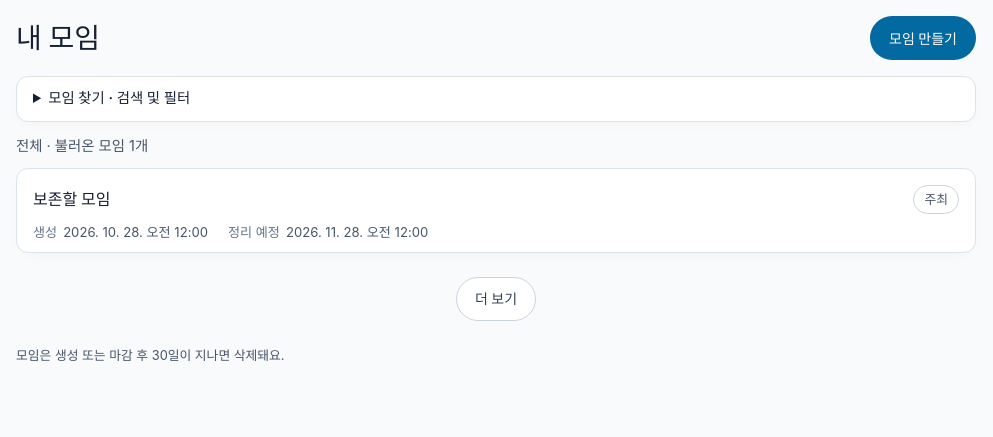
account-based room history › preserves loaded rows on a failed next page and retries that cursor only after an explicit action
The image size is (993, 437).
Expected: the link "보존할 모임 주최" is shown, [33,178,959,222]
Click the button "더 보기" at (496, 299), box [456,277,536,321]
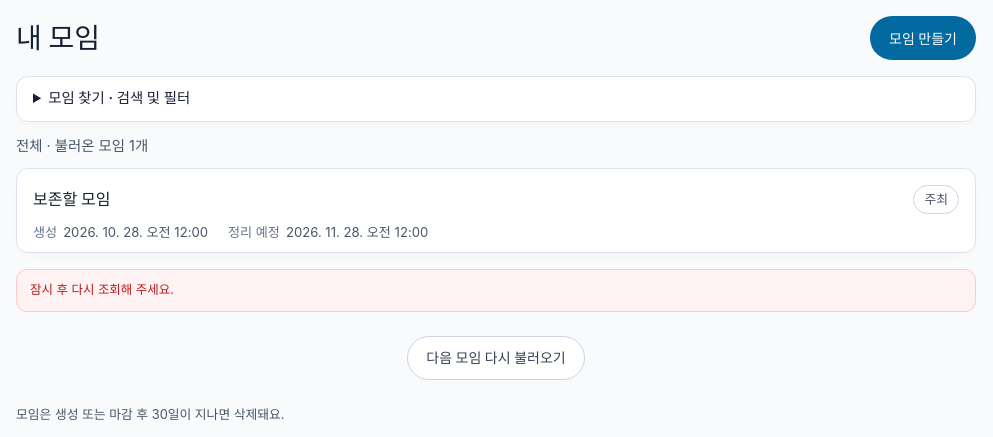
Expected: the link "보존할 모임 주최" is shown, [33,178,959,222]
Now the message "잠시 후 다시 조회해 주세요." is shown, box [16,269,976,312]
Click the button "다음 모임 다시 불러오기" at (496, 358), box [407,336,585,380]
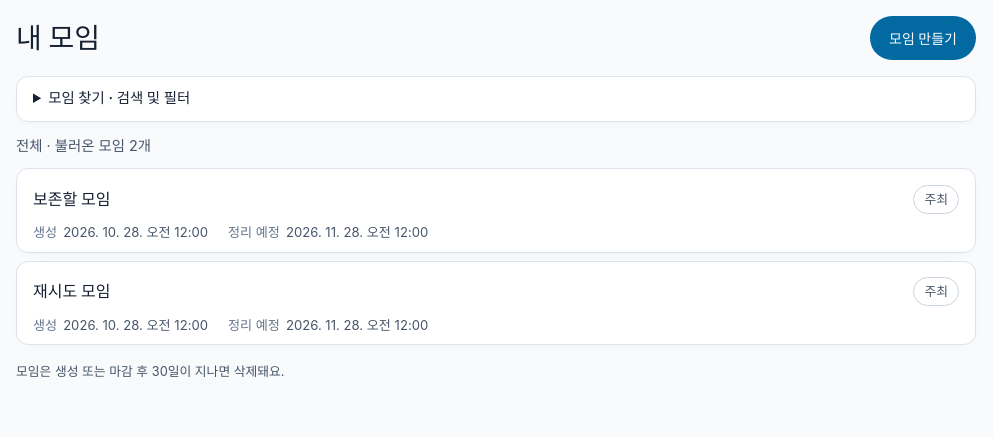
Now the link "재시도 모임 주최" is shown, box [33,270,959,314]
